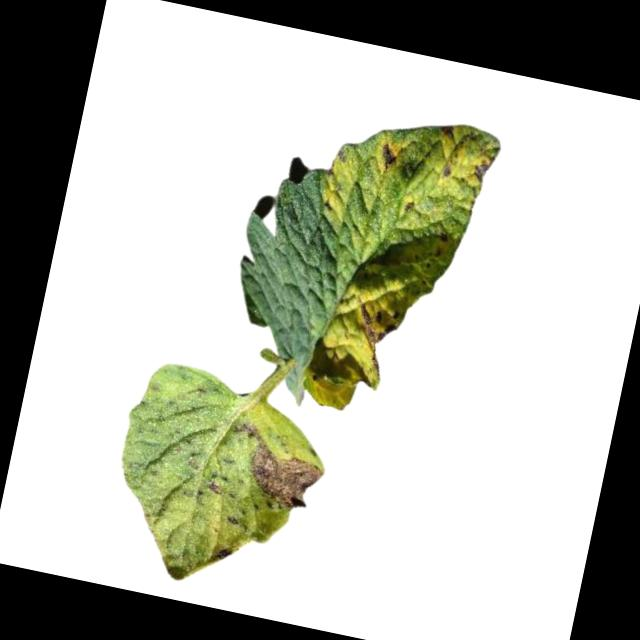Early_blight: (222, 419, 331, 517), (349, 299, 409, 372), (375, 137, 403, 170), (208, 544, 235, 568), (470, 155, 493, 181), (208, 478, 225, 498)
